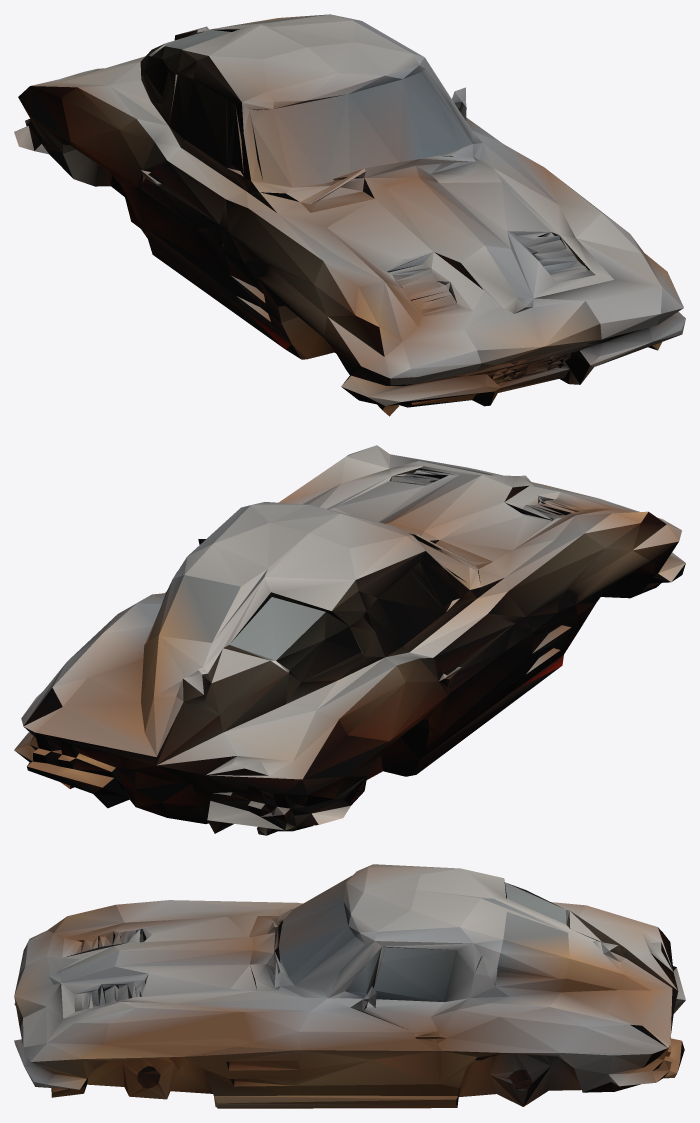
The model's file is chevrolet_corvette_c2.glb.
3 renders of one model, top to bottom at view 1: azimuth 30°, elevation 25°; view 2: azimuth 150°, elevation 25°; view 3: azimuth 270°, elevation 25°, orthographic. The views are drawn at different scales.
Parts seen in each view (by area): view 1: Wreck_chevrolet_corvette_c2; view 2: Wreck_chevrolet_corvette_c2; view 3: Wreck_chevrolet_corvette_c2.
Boxes of the visible parts, x1,y1,x2,y2 form: Wreck_chevrolet_corvette_c2: (14, 14, 685, 416); Wreck_chevrolet_corvette_c2: (14, 445, 685, 835); Wreck_chevrolet_corvette_c2: (14, 864, 685, 1108).
Bounding box in the file's own units: 2.15 × 1.28 × 4.46.
